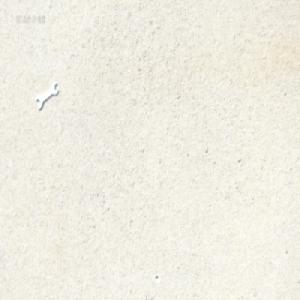Wrench: (36, 81, 59, 112)
